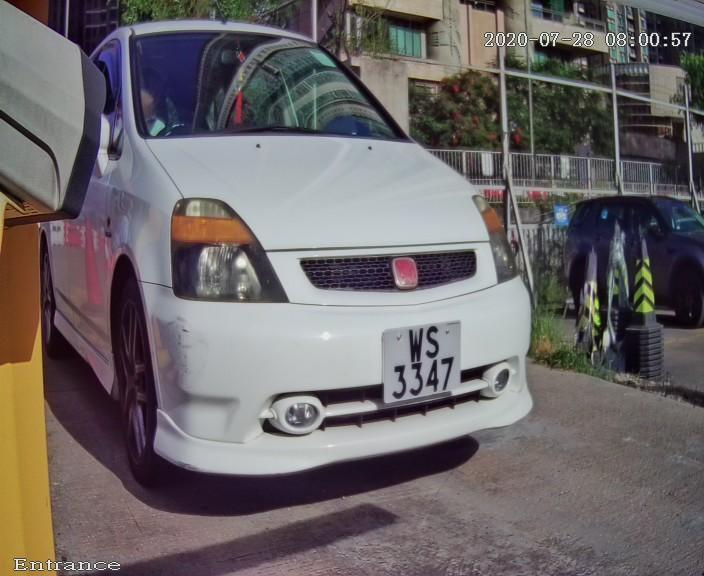privatecar: (26, 21, 598, 535)
